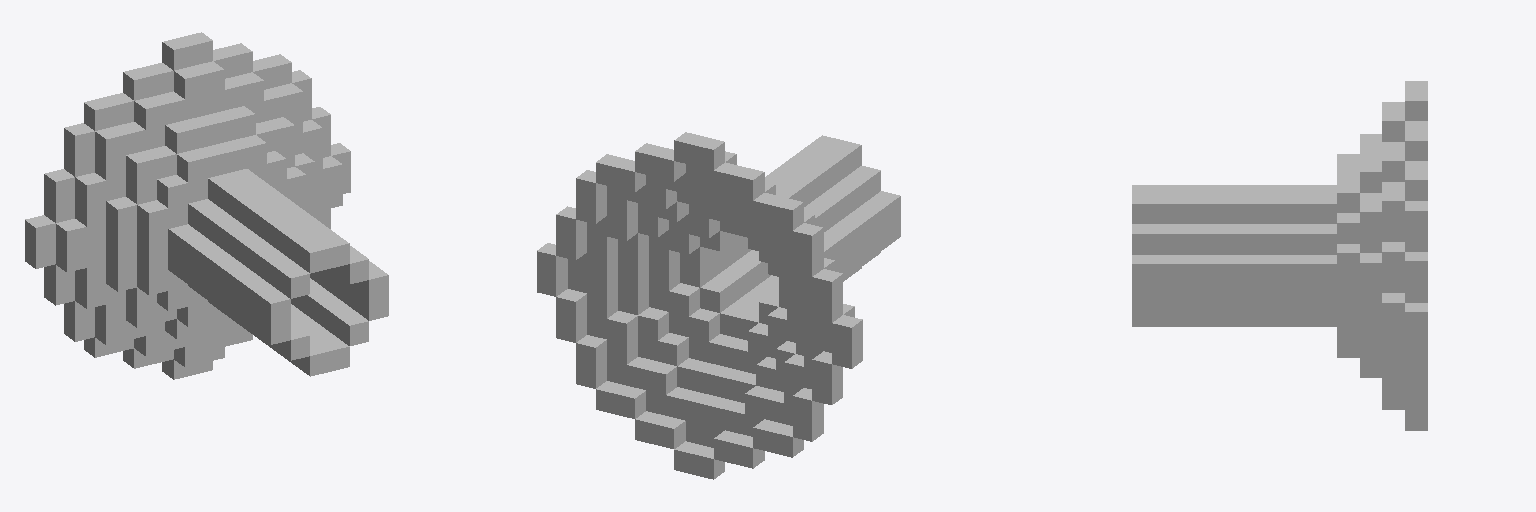
File: st_pillar_base.obj
The picture shows the model from 3 angles: view 1: azimuth 30°, elevation 25°; view 2: azimuth 150°, elevation 25°; view 3: azimuth 270°, elevation 25°; orthographic projection.
Bounding box in the file's own units: 16 × 16 × 13.